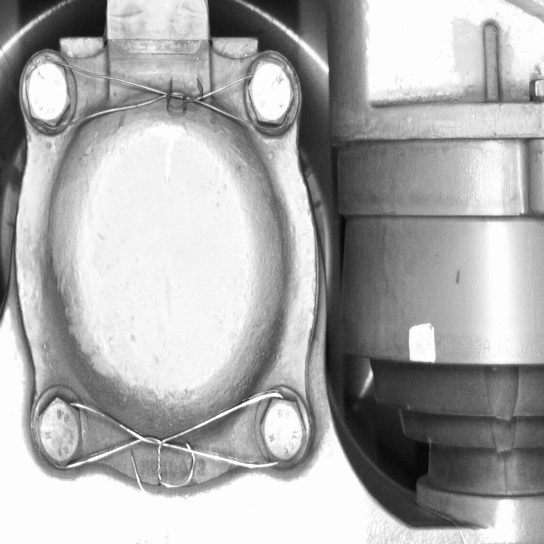IronWire: (13, 46, 300, 140), (28, 389, 314, 474)
Screw: (13, 51, 79, 141), (238, 49, 302, 137), (252, 388, 314, 472), (27, 390, 90, 472)
